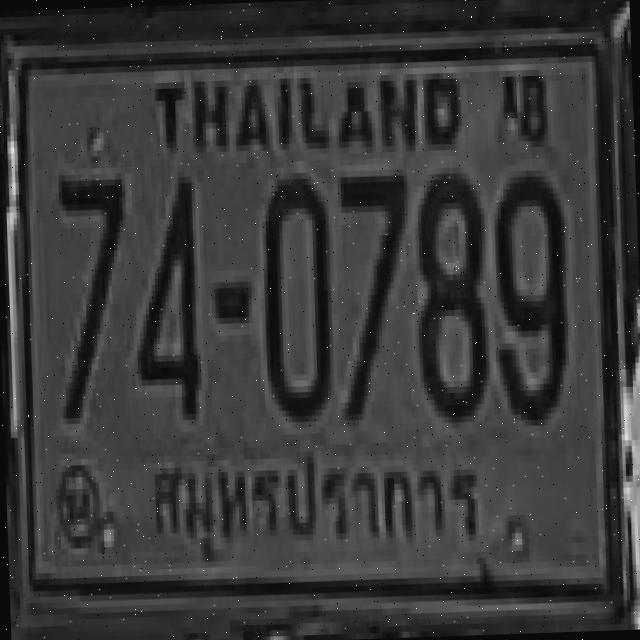0: (256, 172, 332, 417)
4: (130, 170, 200, 416)
7: (54, 173, 130, 418), (336, 172, 411, 417)
8: (411, 166, 486, 418)
9: (489, 169, 567, 420)
SamutPrakan: (138, 426, 490, 574)
